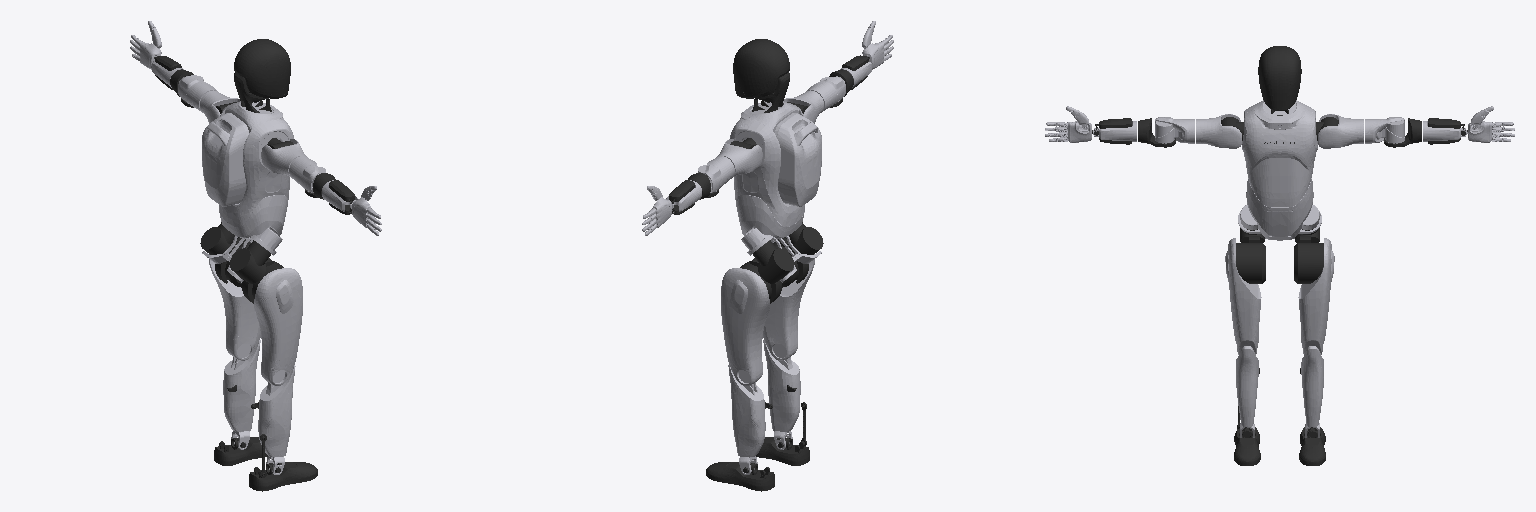
--- What the picture shows (computed from the rendered views, not written in the file) ---
The picture shows the robot from 3 angles, left to right: view 1: azimuth 30°, elevation 25°; view 2: azimuth 150°, elevation 25°; view 3: azimuth 270°, elevation 25°; orthographic projection.
Model a2_t2d0_ultra with 50 links and 49 joints (20 revolute, 29 fixed), rooted at base_link, posed all joints at 0.
Links seen in each view (by area): view 1: base_link, right_hip_pitch, head_link02, right_tarsus, left_tarsus, left_hip_pitch, right_toe_roll, right_hip_roll, left_toe_roll, right_arm_link02, right_hand, left_hand (+5 smaller); view 2: base_link, left_hip_pitch, head_link02, left_tarsus, right_tarsus, right_hip_pitch, left_toe_roll, left_hip_roll, right_toe_roll, left_arm_link02, left_hand, left_arm_link03 (+5 smaller); view 3: base_link, head_link02, left_hip_pitch, right_hip_pitch, right_tarsus, left_tarsus, right_hip_yaw, left_hip_yaw, left_arm_link02, right_arm_link02, left_hand, right_hand (+6 smaller).
Boxes of the visible links, left/top/right/bottom form: base_link: left=202, top=101, right=293, bottom=282; right_hip_pitch: left=254, top=268, right=302, bottom=385; head_link02: left=234, top=39, right=290, bottom=98; right_tarsus: left=258, top=365, right=295, bottom=474; left_tarsus: left=223, top=340, right=260, bottom=449; left_hip_pitch: left=209, top=238, right=260, bottom=360; right_toe_roll: left=249, top=462, right=317, bottom=491; right_hip_roll: left=230, top=240, right=270, bottom=283; left_toe_roll: left=214, top=437, right=267, bottom=465; right_arm_link02: left=261, top=139, right=306, bottom=176; right_hand: left=350, top=186, right=381, bottom=235; left_hand: left=130, top=21, right=161, bottom=69; base_link: left=730, top=101, right=821, bottom=282; left_hip_pitch: left=721, top=268, right=769, bottom=385; head_link02: left=733, top=39, right=789, bottom=98; left_tarsus: left=728, top=365, right=765, bottom=474; right_tarsus: left=763, top=340, right=800, bottom=449; right_hip_pitch: left=763, top=238, right=814, bottom=360; left_toe_roll: left=706, top=462, right=774, bottom=491; left_hip_roll: left=753, top=240, right=793, bottom=283; right_toe_roll: left=756, top=437, right=809, bottom=465; left_arm_link02: left=717, top=139, right=762, bottom=176; left_hand: left=642, top=186, right=673, bottom=235; left_arm_link03: left=698, top=156, right=734, bottom=192; base_link: left=1238, top=100, right=1321, bottom=240; head_link02: left=1258, top=46, right=1301, bottom=110; left_hip_pitch: left=1298, top=238, right=1334, bottom=354; right_hip_pitch: left=1225, top=238, right=1261, bottom=354; right_tarsus: left=1236, top=346, right=1258, bottom=437; left_tarsus: left=1301, top=346, right=1323, bottom=437; right_hip_yaw: left=1236, top=236, right=1265, bottom=283; left_hip_yaw: left=1294, top=236, right=1323, bottom=283; left_arm_link02: left=1318, top=114, right=1363, bottom=148; right_arm_link02: left=1196, top=114, right=1241, bottom=148; left_hand: left=1465, top=106, right=1514, bottom=142; right_hand: left=1045, top=106, right=1096, bottom=142.
Bounding box of the posed robot: 0.3663 × 1.8 × 1.69 m (x, y, z).
Meshes: 48 distinct files referenced, 43 mesh visuals loaded (43 binary STL); not drawn: 5 (reference not matched to a file when rendering).

robot.urdf — a2_t2d0_ultra:
<?xml version="1.0" encoding="utf-8"?>
<!-- This URDF was automatically created by SolidWorks to URDF Exporter! Originally created by Stephen Brawner ([email redacted])
     Commit Version: 1.6.0-4-g7f85cfe  Build Version: 1.6.7995.38578
     For more information, please see http://wiki.ros.org/sw_urdf_exporter -->
     
<robot name="a2_t2d0_ultra">
  <link name="base_link">
    <inertial>
      <origin xyz="-0.07088950 -0.00016512 0.16138088" rpy="0 0 0" />
      <mass value="18.89945962" />
      <inertia ixx="0.59376016" iyy="0.55503329" izz="0.18455985" ixy="0.00015891" ixz="0.00353796" iyz="-0.00043902"/>
    </inertial>
    <visual>
      <origin xyz="0 0 0" rpy="0 0 0" />
      <geometry>  
        <mesh filename="../mesh/body.stl"/>
      </geometry>
      <material name="metallic silver">
        <color rgba="0.752941176 0.752941176 0.784313725 1" />
      </material>
    </visual>
    <collision>
      <origin xyz="0 0 0" rpy="0 0 0" />
      <geometry>
        <mesh filename="../convex/body_hull.stl"/>
      </geometry>
    </collision>
  </link>

  <!-- left leg -->
  <link name="left_hip_roll">
    <inertial>
      <origin xyz="0.00011252 0.02130615 -0.07465143" rpy="0 0 0" />
      <mass value="2.39059365" />
      <inertia ixx="0.00381223" iyy="0.00368166" izz="0.00334373" ixy="-0.00000253" ixz="0.00000433" iyz="0.00019809"/>
    </inertial>
    <visual>
      <origin xyz="0 0 0" rpy="0 0 0" />
      <geometry>
        <mesh filename="../mesh/left_hip_roll.stl" />
      </geometry>
      <material name="metallic black">
        <color rgba="0.235294118 0.235294118 0.235294118 1" />
      </material>
    </visual>
    <collision>
      <origin xyz="0 0 0" rpy="0 0 0" />
      <geometry>
        <mesh filename="../convex/left_hip_roll_hull.stl" />
      </geometry>
    </collision>
  </link>
  <joint name="idx01_left_hip_roll" type="revolute">
    <origin xyz="-0.0808 0.105 -0.0652" rpy="0.7854 0 1.5708" />
    <parent link="base_link" />
    <child link="left_hip_roll" />
    <axis xyz="0 0 1" />
    <limit lower="-0.698" upper="0.698" effort="120" velocity="12" />
  </joint>

  <link name="left_hip_yaw">
    <inertial>
      <origin xyz="-0.00012288 0.01576460 0.10828703" rpy="0 0 0" />
      <mass value="3.79911511" />
      <inertia ixx="0.00941292" iyy="0.01442888" izz="0.00698406" ixy="0.00000766" ixz="0.00000238" iyz="-0.00055185"/>
    </inertial>
    <visual>
      <origin xyz="0 0 0" rpy="0 0 0" />
      <geometry>
        <mesh filename="../mesh/left_hip_yaw.stl"/>
      </geometry>
      <material name="metallic black">
        <color rgba="0.235294118 0.235294118 0.235294118 1" />
      </material>
    </visual>
    <collision>
      <origin xyz="0 0 0" rpy="0 0 0" />
      <geometry>
        <mesh filename="../convex/left_hip_yaw_hull.stl"/>
      </geometry>
    </collision>
  </link>
  <joint name="idx02_left_hip_yaw" type="revolute">
    <origin xyz="0 -0.017 -0.0682" rpy="1.5708 -1.5708 0" />
    <parent link="left_hip_roll" />
    <child link="left_hip_yaw" />
    <axis xyz="0 0 1" />
    <limit lower="-1.57" upper="1.57" effort="120" velocity="12" />
  </joint>

  <link name="left_hip_pitch">
    <inertial>
      <origin xyz="-0.06943423 0.00469099 0.02228242" rpy="0 0 0" />
      <mass value="5.92461880" />
      <inertia ixx="0.01406779" iyy="0.08875802" izz="0.09356940" ixy="0.00370132" ixz="-0.00808512" iyz="0.00067639"/>
    </inertial>
    <visual>
      <origin xyz="0 0 0" rpy="0 0 0" />
      <geometry>
        <mesh filename="../mesh/left_hip_pitch.stl" />
      </geometry>
      <material name="metallic silver">
        <color rgba="0.752941176 0.752941176 0.784313725 1" />
      </material>
    </visual>
    <collision>
      <origin xyz="0 0 0" rpy="0 0 0" />
      <geometry>
        <mesh filename="../convex/left_hip_pitch_hull.stl" />
      </geometry>
    </collision>
  </link>
  <joint name="idx03_left_hip_pitch" type="revolute">
    <origin xyz="0 -0.020 0.1205" rpy="1.5708 0.7854 0" />
    <parent link="left_hip_yaw" />
    <child link="left_hip_pitch" />
    <axis xyz="0 0 1" />
    <limit lower="-1.919862144" upper="0.78539815" effort="140" velocity="12" />
  </joint>

  <link name="left_tarsus">
    <inertial>
      <origin xyz="-0.17711952 0.00417209 0.00013325" rpy="0 0 0" />
      <mass value="3.02166726" />
      <inertia ixx="0.00286094" iyy="0.02537518" izz="0.02674320" ixy="-0.00112212" ixz="0.00004708" iyz="0.00001928"/>
    </inertial>
    <visual>
      <origin xyz="0 0 0" rpy="0 0 0" />
      <geometry>
        <mesh filename="../mesh/left_tarsus.stl" />
      </geometry>
      <material name="metallic silver">
        <color rgba="0.752941176 0.752941176 0.784313725 1" />
      </material>
    </visual>
    <collision>
      <origin xyz="0 0 0" rpy="0 0 0" />
      <geometry>
        <mesh filename="../convex/left_tarsus_hull.stl" />
      </geometry>
    </collision>
  </link>
  <joint name="idx04_left_tarsus" type="revolute">
    <origin xyz="-0.34 0 0" rpy="0 0 0" />
    <parent link="left_hip_pitch" />
    <child link="left_tarsus" />
    <axis xyz="0 0 1" />
    <limit lower="-0.087266461" upper="2.443460911" effort="140" velocity="12" />
  </joint>

  <link name="left_toe_pitch">
    <inertial>
      <origin xyz="0 0 0" rpy="0 0 0" />
      <mass value="0.08772028" />
      <inertia ixx="0.00001572" iyy="0.00001128" izz="0.00001148" ixy="0.0" ixz="0.0" iyz="0.0"/>
    </inertial>
    <visual>
      <origin xyz="0 0 0" rpy="0 0 0" />
      <geometry>
        <mesh filename="../mesh/left_toe_pitch.stl"/>
      </geometry>
      <material name="metallic black">
        <color rgba="0.235294118 0.235294118 0.235294118 1" />
      </material>
    </visual>
    <collision>
      <origin xyz="0 0 0" rpy="0 0 0" />
      <geometry>
        <mesh filename="../convex/left_toe_pitch_hull.stl"/>
      </geometry>
    </collision>
  </link>
  <joint name="idx05_left_toe_pitch" type="revolute">
    <origin xyz="-0.377 0 0" rpy="0 0 0" />
    <parent link="left_tarsus" />
    <child link="left_toe_pitch" />
    <axis xyz="0 0 1" />
    <limit lower="-1.047197533" upper="0.523598767" effort="50" velocity="12" />
  </joint>

  <link name="left_toe_roll">
    <inertial>
      <origin xyz="-0.03898340 0.00002335 0.03167314" rpy="0 0 0" />
      <mass value="1.21058213" />
      <inertia ixx="0.00701152" iyy="0.00653210" izz="0.00112114" ixy="0.00000021" ixz="0.00015476" iyz="-0.00000270"/>
    </inertial>
    <visual>
      <origin xyz="0 0 0" rpy="0 0 0" />
      <geometry>
        <mesh filename="../mesh/left_toe_roll.stl" />
      </geometry>
      <material name="metallic black">
        <color rgba="0.235294118 0.235294118 0.235294118 1" />
      </material>
    </visual>
    <collision>
      <origin xyz="0 0 0" rpy="0 0 0" />
      <geometry>
        <mesh filename="../convex/left_toe_roll_hull.stl" />
      </geometry>
    </collision>
  </link>
  <joint name="idx06_left_toe_roll" type="revolute">
    <origin xyz="0 0 0" rpy="-1.5707963 0 0" />
    <parent link="left_toe_pitch" />
    <child link="left_toe_roll" />
    <axis xyz="0 0 1" />
    <limit lower="-0.488692182" upper="0.488692182" effort="50" velocity="12" />
  </joint>

  <link name="left_toe_A">
    <inertial>
      <origin xyz="0.0161339967539726 0.000256129454551002 0.00157429551114607" rpy="0 0 0" />
      <mass value="0.0959876868449394" />
      <inertia ixx="1.47306660350068E-05" ixy="7.10372384628399E-07" ixz="1.01514226468701E-05" iyy="5.94672539950203E-05" iyz="1.61153684004436E-07" izz="6.68731361080011E-05" />
    </inertial>
    <visual>
      <origin xyz="0 0 0" rpy="0 0 0" />
      <geometry>
        <mesh filename="../mesh/left_toe_A.stl" />
      </geometry>
      <material name="metallic black">
        <color rgba="0.235294118 0.235294118 0.235294118 1" />
      </material>
    </visual>
    <collision>
      <origin xyz="0 0 0" rpy="0 0 0" />
      <geometry>
        <mesh filename="../convex/left_toe_A_hull.stl" />
      </geometry>
      <material name="metallic black">
        <color rgba="0.235294118 0.235294118 0.235294118 1" />
      </material>
    </collision>
  </link>
  <joint name="idx05_01_left_toe_motorA" type="fixed">
    <origin xyz="-0.138 0 -0.0315" rpy="0 0 -1.5708" />
    <parent link="left_tarsus" />
    <child link="left_toe_A" />
    <axis xyz="0 0 1" />
    <limit lower="-1.5708" upper="1.5708" effort="0" velocity="0" />
  </joint>


  <link name="left_toe_A_rod">
    <inertial>
      <origin xyz="-0.11950903764711 -4.54312300279813E-09 2.0722082788957E-05" rpy="0 0 0" />
      <mass value="0.133194826485547" />
      <inertia ixx="4.13825335822083E-06" ixy="6.85930711305851E-12" ixz="2.45335802357092E-09" iyy="0.000625059882342822" iyz="2.33641130593936E-12" izz="0.000627531716420437" />
    </inertial>
    <visual>
      <origin xyz="0 0 0" rpy="0 0 0" />
      <geometry>
        <mesh filename="../mesh/left_toe_A_rod.stl" />
      </geometry>
      <material name="metallic black">
        <color rgba="0.235294118 0.235294118 0.235294118 1" />
      </material>
    </visual>
    <collision>
      <origin xyz="0 0 0" rpy="0 0 0" />
      <geometry>
        <mesh filename="../convex/left_toe_A_rod_hull.stl" />
      </geometry>
    </collision>
  </link>
  <joint name="idx05_01_left_toe_motorA_ball" type="fixed">
    <origin xyz="0.062992 0.001 0" rpy="-3.1416 0 1.5708" />
    <parent link="left_toe_A" />
    <child link="left_toe_A_rod" />
    <axis xyz="0 0 0" />
  </joint>

  <link name="left_toe_B">
    <inertial>
      <origin xyz="0.0161339965985728 0.000256125750057401 -0.00157429547986562" rpy="0 0 0" />
      <mass value="0.0959876865489089" />
      <inertia ixx="1.47306660936761E-05" ixy="7.10374422550964E-07" ixz="-1.0151422567557E-05" iyy="5.94672535179347E-05" iyz="-1.61154476946449E-07" izz="6.68731357299622E-05" />
    </inertial>
    <visual>
      <origin xyz="0 0 0" rpy="0 0 0" />
      <geometry>
        <mesh filename="../mesh/left_toe_B.stl" />
      </geometry>
      <material name="metallic black">
        <color rgba="0.235294118 0.235294118 0.235294118 1" />
      </material>
    </visual>
    <collision>
      <origin xyz="0 0 0" rpy="0 0 0" />
      <geometry>
        <mesh filename="../convex/left_toe_B_hull.stl" />
      </geometry>
    </collision>
  </link>
  <joint name="idx06_01_left_toe_motorB" type="fixed">
    <origin xyz="-0.232 0 0.0315" rpy="0 0 -1.5708" />
    <parent link="left_tarsus" />
    <child link="left_toe_B" />
    <axis xyz="0 0 1" />
    <limit lower="-1.5708" upper="1.5708" effort="0" velocity="0" />
  </joint>

  <link name="left_toe_B_rod">
    <inertial>
      <origin xyz="-0.0725000006179941 2.39833153337088E-11 2.75483156604583E-05" rpy="0 0 0" />
      <mass value="0.0989853087337602" />
      <inertia ixx="3.41390504492216E-06" ixy="-7.00234342247419E-12" ixz="-1.67152635087163E-13" iyy="0.000168898913472365" iyz="-6.91334604265453E-15" izz="0.000171065639810982" />
    </inertial>
    <visual>
      <origin xyz="0 0 0" rpy="0 0 0" />
      <geometry>
        <mesh filename="../mesh/left_toe_B_rod.stl" />
      </geometry>
      <material name="metallic black">
        <color rgba="0.235294118 0.235294118 0.235294118 1" />
      </material>
    </visual>
    <collision>
      <origin xyz="0 0 0" rpy="0 0 0" />
      <geometry>
        <mesh filename="../convex/left_toe_B_rod_hull.stl" />
      </geometry>
    </collision>
  </link>
  <joint name="idx06_01_left_toe_motorB_ball" type="fixed">
    <origin xyz="0.063 0.001 0" rpy="-3.14159265358666 0 1.57074160362305" />
    <parent link="left_toe_B" />
    <child link="left_toe_B_rod" />
    <axis xyz="0 0 0" />
  </joint>

  <!-- right leg -->
  <link name="right_hip_roll">
    <inertial>
      <origin xyz="-0.00011252 0.02130615 -0.07465143" rpy="0 0 0" />
      <mass value="2.39059365" />
      <inertia ixx="0.00381223" iyy="0.00368166" izz="0.00334373" ixy="0.00000253" ixz="-0.00000433" iyz="0.00019809"/>
    </inertial>
    <visual>
      <origin xyz="0 0 0" rpy="0 0 0" />
      <geometry>
        <mesh filename="../mesh/right_hip_roll.stl"/>
      </geometry>
      <material name="metallic black">
        <color rgba="0.235294118 0.235294118 0.235294118 1" />
      </material>
    </visual>
    <collision>
      <origin xyz="0 0 0" rpy="0 0 0" />
      <geometry>
        <mesh filename="../convex/right_hip_roll_hull.stl"/>
      </geometry>
    </collision>
  </link>
  <joint name="idx07_right_hip_roll" type="revolute">
    <origin xyz="-0.0808 -0.105 -0.0652" rpy="0.7854 0 1.5708" />
    <parent link="base_link" />
    <child link="right_hip_roll" />
    <axis xyz="0 0 1" />
    <limit lower="-0.698" upper="0.698" effort="120" velocity="12" />
  </joint>

  <link name="right_hip_yaw">
    <inertial>
      <origin xyz="-0.00012288 -0.01576460 0.10828703" rpy="0 0 0" />
      <mass value="3.79911511" />
      <inertia ixx="0.00941292" iyy="0.01442888" izz="0.00698406" ixy="-0.00000766" ixz="0.00000238" iyz="0.00055185"/>
    </inertial>
    <visual>
      <origin xyz="0 0 0" rpy="0 0 0" />
      <geometry>
        <mesh filename="../mesh/right_hip_yaw.stl" />
      </geometry>
      <material name="metallic black">
        <color rgba="0.235294118 0.235294118 0.235294118 1" />
      </material>
    </visual>
    <collision>
      <origin xyz="0 0 0" rpy="0 0 0" />
      <geometry>
        <mesh filename="../convex/right_hip_yaw_hull.stl"/>
      </geometry>
    </collision>
  </link>
  <joint name="idx08_right_hip_yaw" type="revolute">
    <origin xyz="0 -0.017 -0.0682" rpy="1.5708 -1.5708 0" />
    <parent link="right_hip_roll" />
    <child link="right_hip_yaw" />
    <axis xyz="0 0 1" />
    <limit lower="-1.57" upper="1.57" effort="120" velocity="12" />
  </joint>

  <link name="right_hip_pitch">
    <inertial>
      <origin xyz="-0.06943423 0.00469099 -0.02228242" rpy="0 0 0" />
      <mass value="5.92461880" />
      <inertia ixx="0.01406779" iyy="0.08875802" izz="0.09356940" ixy="0.00370132" ixz="0.00808512" iyz="-0.00067639"/>
    </inertial>
    <visual>
      <origin xyz="0 0 0" rpy="0 0 0" />
      <geometry>
        <mesh filename="../mesh/right_hip_pitch.stl" />
      </geometry>
      <material name="metallic silver">
        <color rgba="0.752941176 0.752941176 0.784313725 1" />
      </material>
    </visual>
    <collision>
      <origin xyz="0 0 0" rpy="0 0 0" />
      <geometry>
        <mesh filename="../convex/right_hip_pitch_hull.stl"/>
      </geometry>
    </collision>
  </link>
  <joint name="idx09_right_hip_pitch" type="revolute">
    <origin xyz="0 0.020 0.1205" rpy="1.5708 0.7854 0" />
    <parent link="right_hip_yaw" />
    <child link="right_hip_pitch" />
    <axis xyz="0 0 1" />
    <limit lower="-1.919862144" upper="0.78539815" effort="140" velocity="12" />
  </joint>

  <link name="right_tarsus">
    <inertial>
      <origin xyz="-0.17711952 0.00417209 -0.00013325" rpy="0 0 0" />
      <mass value="3.02166726" />
      <inertia ixx="0.00286094" iyy="0.02537518" izz="0.02674320" ixy="-0.00112212" ixz="-0.00004708" iyz="-0.00001928"/>
    </inertial>
    <visual>
      <origin xyz="0 0 0" rpy="0 0 0" />
      <geometry>
        <mesh filename="../mesh/right_tarsus.stl" />
      </geometry>
      <material name="metallic silver">
        <color rgba="0.752941176 0.752941176 0.784313725 1" />
      </material>
    </visual>
    <collision>
      <origin xyz="0 0 0" rpy="0 0 0" />
      <geometry>
        <mesh filename="../convex/right_tarsus_hull.stl"/>
      </geometry>
    </collision>
  </link>
  <joint name="idx10_right_tarsus" type="revolute">
    <origin xyz="-0.34 0 0" rpy="0 0 0" />
    <parent link="right_hip_pitch" />
    <child link="right_tarsus" />
    <axis xyz="0 0 1" />
    <limit lower="-0.087266461" upper="2.443460911" effort="140" velocity="12" />
  </joint>

  <link name="right_toe_pitch">
    <inertial>
      <origin xyz="0 0 0" rpy="0 0 0" />
      <mass value="0.08772028" />
      <inertia ixx="0.00001572" iyy="0.00001128" izz="0.00001148" ixy="0.0" ixz="0.0" iyz="0.0"/>
    </inertial>
    <visual>
      <origin xyz="0 0 0" rpy="0 0 0" />
      <geometry>
        <mesh filename="../mesh/right_toe_pitch.stl"/>
      </geometry>
      <material name="metallic black">
        <color rgba="0.235294118 0.235294118 0.235294118 1" />
      </material>
    </visual>
    <collision>
      <origin xyz="0 0 0" rpy="0 0 0" />
      <geometry>
        <mesh filename="../convex/right_toe_pitch_hull.stl"/>
      </geometry>
    </collision>
  </link>
  <joint name="idx11_right_toe_pitch" type="revolute">
    <origin xyz="-0.377 0 0" rpy="0 0 0" />
    <parent link="right_tarsus" />
    <child link="right_toe_pitch" />
    <axis xyz="0 0 1" />
    <limit lower="-1.047197533" upper="0.523598767" effort="50" velocity="12" />
  </joint>

  <link name="right_toe_roll">
    <inertial>
      <origin xyz="-0.03898340 -0.00002335 0.03167314" rpy="0 0 0" />
      <mass value="1.21058213" />
      <inertia ixx="0.00701152" iyy="0.00653210" izz="0.00112114" ixy="-0.00000021" ixz="0.00015476" iyz="0.00000270"/>
    </inertial>
    <visual>
      <origin xyz="0 0 0" rpy="0 0 0" />
      <geometry>
        <mesh filename="../mesh/right_toe_roll.stl"/>
      </geometry>
      <material name="metallic black">
        <color rgba="0.235294118 0.235294118 0.235294118 1" />
      </material>
    </visual>
    <collision>
      <origin xyz="0 0 0" rpy="0 0 0" />
      <geometry>
        <mesh filename="../convex/right_toe_roll_hull.stl"/>
      </geometry>
    </collision>
  </link>
  <joint name="idx12_right_toe_roll" type="revolute">
    <origin xyz="0 0 0" rpy="-1.5707963 0 0" />
    <parent link="right_toe_pitch" />
    <child link="right_toe_roll" />
    <axis xyz="0 0 1" />
    <limit lower="-0.488692182" upper="0.488692182" effort="50" velocity="12" />
  </joint>
  
  <link name="right_toe_A">
    <inertial>
      <origin xyz="0.0161564618609389 0.00025642819293159 -0.001574295479989" rpy="0 0 0" />
      <mass value="0.0959876865493352" />
      <inertia ixx="1.47306517352712E-05" ixy="7.09922163047177E-07" ixz="-1.01514241960403E-05" iyy="5.94672678768343E-05" iyz="-1.61051852281769E-07" izz="6.68731357306057E-05" />
    </inertial>
    <visual>
      <origin xyz="0 0 0" rpy="0 0 0" />
      <geometry>
        <mesh filename="../mesh/right_toe_A.stl"/>
      </geometry>
      <material name="metallic black">
        <color rgba="0.235294118 0.235294118 0.235294118 1" />
      </material>
    </visual>
    <collision>
      <origin xyz="0 0 0" rpy="0 0 0" />
      <geometry>
        <mesh filename="../convex/right_toe_A_hull.stl"/>
      </geometry>
    </collision>
  </link>
  <joint name="idx11_01_right_toe_motorA" type="fixed">
    <origin xyz="-0.138 0 0.0315" rpy="0 0 -1.5708" />
    <parent link="right_tarsus" />
    <child link="right_toe_A" />
    <axis xyz="0 0 1" />
    <limit lower="0" upper="0" effort="0" velocity="0" />
  </joint>

  <link name="right_toe_A_rod">
    <inertial>
      <origin xyz="-0.119506775010566 2.76775022988937E-05 2.07236899269908E-05" rpy="0 0 0" />
      <mass value="0.133194826485545" />
      <inertia ixx="4.13825457277786E-06" ixy="2.68995206710072E-08" ixz="2.45335787860636E-09" iyy="0.00062505988112825" iyz="2.44266827827242E-12" izz="0.000627531716420421" />
    </inertial>
    <visual>
      <origin xyz="0 0 0" rpy="0 0 0" />
      <geometry>
        <mesh filename="../mesh/right_toe_A_rod.stl" />
      </geometry>
      <material name="metallic black">
        <color rgba="0.235294118 0.235294118 0.235294118 1" />
      </material>
    </visual>
    <collision>
      <origin xyz="0 0 0" rpy="0 0 0" />
      <geometry>
        <mesh filename="../convex/right_toe_A_rod_hull.stl"/>
      </geometry>
    </collision>
  </link>
  <joint name="idx11_01_right_toe_motorA_ball " type="fixed">
    <origin xyz="0.062992 0.0010021 0" rpy="3.1416 0 1.5708" />
    <parent link="right_toe_A" />
    <child link="right_toe_A_rod" />
    <axis xyz="0 0 0" />
  </joint>

  <link name="right_toe_B">
    <inertial>
      <origin xyz="0.0161605408863716 0.000255895525077321 0.00157429551102603" rpy="0 0 0" />
      <mass value="0.0959876868444429" />
      <inertia ixx="1.47306045969354E-05" ixy="7.08435168511415E-07" ixz="1.01514296159037E-05" iyy="5.94673154325773E-05" iyz="1.60714100188362E-07" izz="6.68731361073396E-05" />
    </inertial>
    <visual>
      <origin xyz="0 0 0" rpy="0 0 0" />
      <geometry>
        <mesh filename="../mesh/right_toe_B.stl"/>
      </geometry>
      <material name="metallic black">
        <color rgba="0.235294118 0.235294118 0.235294118 1" />
      </material>
    </visual>
    <collision>
      <origin xyz="0 0 0" rpy="0 0 0" />
      <geometry>
        <mesh filename="../convex/right_toe_B_hull.stl"/>
      </geometry>
    </collision>
  </link>
  <joint name="idx12_01_right_toe_motorB" type="fixed">
    <origin xyz="-0.232 0 -0.0315" rpy="0 0 -1.5708" />
    <parent link="right_tarsus" />
    <child link="right_toe_B" />
    <axis xyz="0 0 1" />
    <limit lower="0" upper="0" effort="0" velocity="0" />
  </joint>
  <link name="right_toe_B_rod">
    <inertial>
      <origin xyz="-0.0724977388604912 2.97174338039705E-05 2.75478483252878E-05" rpy="0 0 0" />
      <mass value="0.0989853087337611" />
      <inertia ixx="3.41390533484477E-06" ixy="7.16306173866274E-09" ixz="-1.67153379781756E-13" iyy="0.000168898913182443" iyz="-6.92078088288279E-15" izz="0.000171065639810983" />
    </inertial>
    <visual>
      <origin xyz="0 0 0" rpy="0 0 0" />
      <geometry>
        <mesh filename="../mesh/right_toe_B_rod.stl"/>
      </geometry>
      <material name="metallic black">
        <color rgba="0.235294118 0.235294118 0.235294118 1" />
      </material>
    </visual>
    <collision>
      <origin xyz="0 0 0" rpy="0 0 0" />
      <geometry>
        <mesh filename="../convex/right_toe_B_rod_hull.stl"/>
      </geometry>
    </collision>
  </link>
  <joint name="idx12_01_right_toe_motorB_ball" type="fixed">
    <origin xyz="0.062992 0.001 0" rpy="3.1416 0 1.5707" />
    <parent link="right_toe_B" />
    <child link="right_toe_B_rod" />
    <axis xyz="0 0 0" />
  </joint>

  <!-- left arm -->
  <link name="left_arm_link_base"/>
  <joint name="left_arm_base_joint" type="fixed">
    <origin rpy="1.5707963  0 0" xyz="-0.03779 0 0.3421"/>
    <parent link="base_link"/>
    <child link="left_arm_link_base"/>
  </joint>

  <link name="left_arm_link01">
    <inertial>
      <origin xyz="-0.002330 0.008782 0.032870" rpy="0 0 0" />
      <mass value="0.276944" />
      <inertia ixx="0.000595" iyy="0.000381" izz="0.000542" ixy="-0.000006" ixz="-0.000002" iyz="0.000053"/>
    </inertial>
    <visual>
      <origin xyz="0 0 0" rpy="0 0 0" />
      <geometry>
        <mesh filename="../mesh/left_arm_link01.stl" />
      </geometry>
      <material name="metallic black">
        <color rgba="0.235294118 0.235294118 0.235294118 1" />
      </material>
    </visual>
    <collision>
      <origin xyz="0 0 0" rpy="0 0 0" />
      <geometry>
        <mesh filename="../convex/left_arm_link01_hull.stl"/>
      </geometry>
    </collision>
  </link>
  <joint name="idx13_left_arm_joint1" type="revolute">
    <origin xyz="-0.0 0.0 -0.191 " rpy="0 0 -1.5707963" />
    <parent link="left_arm_link_base" />
    <child link="left_arm_link01" />
    <axis xyz="0 0 1" />
    <limit lower="-2.967" upper="2.967" effort="0" velocity="0" />
  </joint>


  <link name="left_arm_link02">
    <inertial>
      <origin xyz="-0.000451 -0.051682 -0.001084" rpy="0 0 0" />
      <mass value="2.852114" />
      <inertia ixx="0.011984" iyy="0.002880" izz="0.011709" ixy="0.000039" ixz="0.000003" iyz="0.000140"/>
    </inertial>
    <visual>
      <origin xyz="0 0 0" rpy="0 0 0" />
      <geometry>
        <mesh filename="../mesh/left_arm_link02.stl" />
      </geometry>
      <material name="metallic silver">
        <color rgba="0.752941176 0.752941176 0.784313725 1" />
      </material>
    </visual>
    <collision>
      <origin xyz="0 0 0" rpy="0 0 0" />
      <geometry>
        <mesh filename="../convex/left_arm_link02_hull.stl"/>
      </geometry>
    </collision>
  </link>
  <joint name="idx14_left_arm_joint2" type="revolute">
    <origin xyz="0 0 -0.0" rpy="1.5707963 0 0"/>
    <parent link="left_arm_link01" />
    <child link="left_arm_link02" />
    <axis xyz="0 0 1" />
    <limit lower="-0.523598767" upper="1.658062761" effort="0" velocity="0" />
  </joint>

  <link name="left_arm_link03">
    <inertial>
      <origin xyz="-0.000673 0.001065 0.079222" rpy="0 0 0" />
      <mass value="1.310295" />
      <inertia ixx="0.002030" iyy="0.002186" izz="0.001189" ixy="-0.000008" ixz="0.000005" iyz="0.000018"/>
    </inertial>
    <visual>
      <origin xyz="0 0 0" rpy="0 0 0" />
      <geometry>
        <mesh filename="../mesh/left_arm_link03.stl" />
      </geometry>
      <material name="metallic silver">
        <color rgba="0.752941176 0.752941176 0.784313725 1" />
      </material>
    </visual>
    <collision>
      <origin xyz="0 0 0" rpy="0 0 0" />
      <geometry>
        <mesh filename="../convex/left_arm_link03_hull.stl"/>
      </geometry>
    </collision>
  </link>
  <joint name="idx15_left_arm_joint3" type="revolute">
    <origin  rpy="1.5707963 0 0" xyz="0 -0.154 0" />
    <parent link="left_arm_link02" />
    <child link="left_arm_link03" />
    <axis xyz="0 0 1" />
    <limit lower="-2.967" upper="2.967" effort="0" velocity="0" />
  </joint>


  <link name="left_arm_link04">
    <inertial>
      <origin xyz="0.000273 -0.066853 -0.007408" rpy="0 0 0" />
      <mass value="0.677343" />
     <inertia ixx="0.000893" iyy="0.000508" izz="0.000767" ixy="-0.000001" ixz="-0.000002" iyz="0.000238"/>
    </inertial>
    <visual>
      <origin xyz="0 0 0" rpy="0 0 0" />
      <geometry>
        <mesh filename="../mesh/left_arm_link04.stl" />
      </geometry>
      <material name="metallic black">
        <color rgba="0.235294118 0.235294118 0.235294118 1" />
      </material>
    </visual>
    <collision>
      <origin xyz="0 0 0" rpy="0 0 0" />
      <geometry>
        <mesh filename="../convex/left_arm_link04_hull.stl"/>
      </geometry>
    </collision>
  </link>
  <joint name="idx16_left_arm_joint4" type="revolute">
    <origin xyz="0 0 0.093" rpy="-1.5707963  0  1.5707963" />
    <parent link="left_arm_link03" />
    <child link="left_arm_link04" />
    <axis xyz="0 0 1" />
    <limit lower="-2.094395067" upper="0" effort="0" velocity="0" />
  </joint>

  <link name = "left_arm_link05">
    <inertial>
      <origin xyz="-0.001962 -0.000002 0.071786" rpy="0 0 0" />
      <mass value="0.260886" />
      <inertia ixx="0.000638" iyy="0.000618" izz="0.000229" ixy="0.000000" ixz="0.000015" iyz="0.000000"/>
    </inertial>
    <visual name = "">
      <origin rpy = "0.0 0.0 0.0" xyz = "0.0 0.0 0.0" />
      <geometry>
        <mesh filename="../mesh/left_arm_link05.stl" />
      </geometry>
      <material name="metallic silver">
        <color rgba="0.752941176 0.752941176 0.784313725 1" />
      </material>
    </visual>
    <collision>
      <origin xyz="0 0 0" rpy="0 0 0" />
      <geometry>
        <mesh filename="../convex/left_arm_link05_hull.stl"/>
      </geometry>
    </collision>
  </link>
  <joint name = "idx17_left_arm_joint5" type = "fixed">
    <origin xyz = "0  -0.103 0.0" rpy = "1.5707963 0 0"  />
    <parent link = "left_arm_link04" />
    <child link = "left_arm_link05" />
    <axis xyz = "0 0 1" />
    <limit lower = "-2.87979" upper = "2.87979" velocity = "0.0" effort = "0"/>
  </joint>


  <link name = "left_arm_link06">
    <inertial>
      <origin xyz="0.00018011 -0.00021701 0.00000000" rpy="0 0 0" />
      <mass value="0.02504627" />
      <inertia ixx="0.00000197" iyy="0.00000173" izz="0.00000071" ixy="0.00000000" ixz="0.00000000" iyz="0.00000000"/>
    </inertial>
    <visual name = "">
      <origin rpy = "0.0 0.0 0.0" xyz = "0.0 0.0 0.0" />
      <geometry>
        <mesh filename="../mesh/left_arm_link06.stl" />
      </geometry>
      <material name="metallic black">
        <color rgba="0.235294118 0.235294118 0.235294118 1" />
      </material>
    </visual>
    <collision>
      <origin xyz="0 0 0" rpy="0 0 0" />
      <geometry>
        <mesh filename="../convex/left_arm_link06_hull.stl"/>
      </geometry>
    </collision>
  </link>
   <joint name = "idx18_left_arm_joint6" type = "fixed">
    <origin xyz="-0.01 0 0.1595" rpy="-1.5707963 1.5707963 0" />
    <parent link = "left_arm_link05" />
    <child link = "left_arm_link06" />
    <axis xyz = "0 0 1" />
    <limit lower = "-0.785398" upper = "0.785398" velocity = "0.0" effort = "0" />
  </joint>

  <link name = "left_arm_link07">
    <inertial>
      <origin xyz="-0.01211757 -0.00009712 0.00886324" rpy="0 0 0" />
      <mass value="0.05050219" />
      <inertia ixx="0.00000828" iyy="0.00001140" izz="0.00001294" ixy="0.00000006" ixz="-0.00000179" iyz="0.00000004"/>
    </inertial>
    <visual name = "">
      <origin rpy = "0.0 0.0 0.0" xyz = "0.0 0.0 0.0" />
      <geometry>
        <mesh filename="../mesh/left_arm_link07.stl" />
      </geometry>
      <material name="metallic black">
        <color rgba="0.235294118 0.235294118 0.235294118 1" />
      </material>
    </visual>
    <collision>
      <origin xyz="0 0 0" rpy="0 0 0" />
      <geometry>
        <mesh filename="../convex/left_arm_link07_hull.stl"/>
      </geometry>
    </collision>
  </link>
  <joint name = "idx19_left_arm_joint7" type = "fixed">
    <origin xyz="0 0 0" rpy="1.5707963 0 0" />
    <parent link = "left_arm_link06" />
    <child link = "left_arm_link07" />
    <axis xyz = "0 0 1" />
    <limit lower="-0.5236" upper="0.5236" effort="0" velocity="0" />
  </joint>

  <joint name = "left_arm_joint07_fixed" type = "fixed">
    <origin rpy = "1.5707963 0 -1.5707963" xyz = "0 0 0" />
    <parent link = "left_arm_link07" />
    <child link = "left_hand" />
  </joint>
  <link name = "left_hand">
    <visual>
      <origin xyz="0 0 0" rpy="0 0 0" />
      <geometry>
        <mesh filename="../mesh/left_hand.stl"/>
      </geometry>
      <material name="metallic silver">
        <color rgba="0.752941176 0.752941176 0.784313725 1" />
      </material>
    </visual>
    <collision>
      <origin xyz="0 0 0" rpy="0 0 0" />
      <geometry>
        <mesh filename="../convex/left_hand_hull.stl"/>
      </geometry>
      <material name="">
        <color rgba="0.8 0.4 0 1" />
      </material>
    </collision>
  </link>


  <joint name="left_wrist_motor_A_ball" type="fixed">
    <origin xyz="0.005 0.02245 0.0245" rpy="0 -3.126778944 0" />
    <parent link="left_arm_link05" />
    <child link="left_wrist_motor_A" />
  </joint>
  <link name="left_wrist_motor_A">
    <visual>
      <origin xyz="0 0 0" rpy="0 0 0" />
      <geometry>
        <mesh filename="../mesh/left_wrist_motor_A.stl" />
      </geometry>
      <material name="metallic black">
        <color rgba="0.235294118 0.235294118 0.235294118 1" />
      </material>
    </visual>
    <collision>
      <origin xyz="0 0 0" rpy="0 0 0" />
      <geometry>
        <mesh filename="../convex/left_wrist_motor_A_hull.stl"/>
      </geometry>
    </collision>
  </link>

  <joint name="left_wrist_rod_A_joint" type="fixed">
    <origin xyz="0 0 -0.135015" rpy="0 3.1415926535 0" />
    <parent link="left_wrist_motor_A" />
    <child link="left_wrist_rod_A" />
    <axis xyz="0 0 1" />
    <limit lower="-0.01199" upper="0.01204" effort="0" velocity="0" />
  </joint>
  <link name="left_wrist_rod_A">
    <visual>
      <origin xyz="0 0 0" rpy="0 0 0" />
      <geometry>
        <mesh filename="../mesh/left_wrist_rod_A.stl" />
      </geometry>
      <material name="metallic black">
        <color rgba="0.235294118 0.235294118 0.235294118 1" />
      </material>
    </visual>
    <collision>
      <origin xyz="0 0 0" rpy="0 0 0" />
      <geometry>
        <mesh filename="../convex/left_wrist_rod_A_hull.stl"/>
      </geometry>
    </collision>
  </link>

  <joint name="left_wrist_motor_B_ball" type="fixed">
    <origin xyz="0.005 -0.02245 0.0245" rpy="0 -3.126778944 0" />
    <parent link="left_arm_link05" />
    <child link="left_wrist_motor_B" />
  </joint>
  <link name="left_wrist_motor_B">
    <visual>
      <origin xyz="0 0 0" rpy="0 0 0" />
      <geometry>
        <mesh filename="../mesh/left_wrist_motor_B.stl" />
      </geometry>
      <material name="metallic black">
        <color rgba="0.235294118 0.235294118 0.235294118 1" />
      </material>
    </visual>
    <collision>
      <origin xyz="0 0 0" rpy="0 0 0" />
      <geometry>
        <mesh filename="../convex/left_wrist_motor_B_hull.stl"/>
      </geometry>
    </collision>
  </link>

  <joint name="left_wrist_rod_B_joint" type="fixed">
    <origin xyz="0 0 -0.135015" rpy="0 3.1415926535 0" />
    <parent link="left_wrist_motor_B" />
    <child link="left_wrist_rod_B" />
    <axis xyz="0 0 1" />
    <limit lower="-0.01199" upper="0.01204" effort="0" velocity="0" />
  </joint>
  <link name="left_wrist_rod_B">
    <visual>
      <origin xyz="0 0 0" rpy="0 0 0" />
      <geometry>
        <mesh filename="../mesh/left_wrist_rod_B.stl" />
      </geometry>
      <material name="metallic black">
        <color rgba="0.235294118 0.235294118 0.235294118 1" />
      </material>
    </visual>
    <collision>
      <origin xyz="0 0 0" rpy="0 0 0" />
      <geometry>
        <mesh filename="../convex/left_wrist_rod_B_hull.stl"/>
      </geometry>
    </collision>
  </link>

  <!-- right arm -->
  <link name="right_arm_link_base"/>
  <joint name="right_arm_base_joint" type="fixed">
    <origin rpy="1.5707963  0 0" xyz="-0.03779 0 0.3421"/>
    <parent link="base_link"/>
    <child link="right_arm_link_base"/>
  </joint>

  <link name="right_arm_link01">
    <inertial>
      <origin xyz="-0.002330 0.008782 -0.032870" rpy="0 0 0" />
      <mass value="0.276944" />
      <inertia ixx="0.000595" iyy="0.000381" izz="0.000542" ixy="-0.000006" ixz="0.000002" iyz="-0.000053"/>
    </inertial>
    <visual>
      <origin xyz="0 0 0" rpy="0 0 0" />
      <geometry>
        <mesh filename="../mesh/right_arm_link01.stl" />
      </geometry>
      <material name="metallic black">
        <color rgba="0.235294118 0.235294118 0.235294118 1" />
      </material>
    </visual>
    <collision>
      <origin xyz="0 0 0" rpy="0 0 0" />
      <geometry>
        <mesh filename="../convex/right_arm_link01_hull.stl"/>
      </geometry>
    </collision>
  </link>
  <joint name="idx20_right_arm_joint1" type="revolute">
    <origin xyz="-0.0 0.0 0.191 " rpy="0   0  -1.5707963" />
    <parent link="right_arm_link_base" />
    <child link="right_arm_link01" />
    <axis xyz="0 0 1" />
    <limit lower="-2.967" upper="2.967" effort="0" velocity="0" />
  </joint>

  <link name="right_arm_link02">
    <inertial>
      <origin xyz="-0.000451 0.051682 -0.001084" rpy="0 0 0" />
      <mass value="2.852114" />
      <inertia ixx="0.011984" iyy="0.002880" izz="0.011709" ixy="-0.000039" ixz="0.000003" iyz="-0.000140"/>
    </inertial>
    <visual>
      <origin xyz="0 0 0" rpy="0 0 0" />
      <geometry>
        <mesh filename="../mesh/right_arm_link02.stl" />
      </geometry>
      <material name="metallic silver">
        <color rgba="0.752941176 0.752941176 0.784313725 1" />
      </material>
    </visual>
    <collision>
      <origin xyz="0 0 0" rpy="0 0 0" />
      <geometry>
        <mesh filename="../convex/right_arm_link02_hull.stl"/>
      </geometry>
    </collision>
  </link>
  <joint name="idx21_right_arm_joint2" type="revolute">
    <origin xyz="0 0 0.0" rpy="1.5707963 0 0"/>
    <parent link="right_arm_link01" />
    <child link="right_arm_link02" />
    <axis xyz="0 0 1" />
    <limit lower="-1.658062761" upper="0.523598767" effort="0" velocity="0" />
  </joint>



  <link name="right_arm_link03">
    <inertial>
      <origin xyz="-0.000673 0.001065 -0.079222" rpy="0 0 0" />
      <mass value="1.310295" />
      <inertia ixx="0.002030" iyy="0.002186" izz="0.001189" ixy="-0.000008" ixz="-0.000005" iyz="-0.000018"/>
    </inertial>
    <visual>
      <origin xyz="0 0 0" rpy="0 0 0" />
      <geometry>
        <mesh filename="../mesh/right_arm_link03.stl" />
      </geometry>
      <material name="metallic silver">
        <color rgba="0.752941176 0.752941176 0.784313725 1" />
      </material>
    </visual>
    <collision>
      <origin xyz="0 0 0" rpy="0 0 0" />
      <geometry>
        <mesh filename="../convex/right_arm_link03_hull.stl"/>
      </geometry>
    </collision>
  </link>
  <joint name="idx22_right_arm_joint3" type="revolute">
    <origin xyz="0 0.154  0" rpy="1.5707963 0 0" />
    <parent link="right_arm_link02" />
    <child link="right_arm_link03" />
    <axis xyz="0 0 1" />
    <limit lower="-2.967" upper="2.967" effort="0" velocity="0" />
  </joint>


  <link name="right_arm_link04">
    <inertial>
      <origin xyz="0.000273 0.066853 -0.007408" rpy="0 0 0" />
      <mass value="0.677343" />
     <inertia ixx="0.000893" iyy="0.000508" izz="0.000767" ixy="0.000001" ixz="-0.000002" iyz="-0.000238"/>
    </inertial>
    <visual>
      <origin xyz="0 0 0" rpy="0 0 0" />
      <geometry>
        <mesh filename="../mesh/right_arm_link04.stl" />
      </geometry>
      <material name="metallic black">
        <color rgba="0.235294118 0.235294118 0.235294118 1" />
      </material>
    </visual>
    <collision>
      <origin xyz="0 0 0" rpy="0 0 0" />
      <geometry>
        <mesh filename="../convex/right_arm_link04_hull.stl"/>
      </geometry>
    </collision>
  </link>
  <joint name="idx23_right_arm_joint4" type="revolute">
    <origin xyz="0 0 -0.093" rpy="-1.5707963 0 1.5707963" />
    <parent link="right_arm_link03" />
    <child link="right_arm_link04" />
    <axis xyz="0 0 1" />
    <limit lower="0" upper="2.094395067" effort="0" velocity="0" />
  </joint>


 
  <link name = "right_arm_link05">
    <inertial>
      <origin xyz="-0.001962 -0.000002 -0.071786" rpy="0 0 0" />
      <mass value="0.260886" />
      <inertia ixx="0.000638" iyy="0.000618" izz="0.000229" ixy="0.000000" ixz="-0.000015" iyz="-0.000000"/>
    </inertial>
    <visual name = "">
      <origin rpy = "0.0 0.0 0.0" xyz = "0.0 0.0 0.0" />
      <geometry>
        <mesh filename="../mesh/right_arm_link05.stl" />
      </geometry>
      <material name="metallic silver">
        <color rgba="0.752941176 0.752941176 0.784313725 1" />
      </material>
    </visual>
    <collision>
      <origin xyz="0 0 0" rpy="0 0 0" />
      <geometry>
        <mesh filename="../convex/right_arm_link05_hull.stl"/>
      </geometry>
    </collision>
  </link>
  <joint name = "idx24_right_arm_joint5" type = "fixed">
    <origin xyz = "0  0.103 0.0" rpy = "1.5707963 0 0"  />
    <parent link = "right_arm_link04" />
    <child link = "right_arm_link05" />
    <axis xyz = "0 0 1" />
    <limit lower = "-2.87979" upper = "2.87979" velocity = "0.0" effort = "0.0"/>
  </joint>

  
  <link name = "right_arm_link06">
    <inertial>
      <origin xyz="-0.00018011 -0.00021701 0.00000000" rpy="0 0 0" />
      <mass value="0.02504627" />
      <inertia ixx="0.00000197" iyy="0.00000173" izz="0.00000071" ixy="-0.00000000" ixz="-0.00000000" iyz="0.00000000"/>
    </inertial>
    <visual name = "">
      <origin rpy = "0.0 0.0 0.0" xyz = "0.0 0.0 0.0" />
      <geometry>
        <mesh filename="../mesh/right_arm_link06.stl" />
      </geometry>
      <material name="metallic black">
        <color rgba="0.235294118 0.235294118 0.235294118 1" />
      </material>
    </visual>
    <collision>
      <origin xyz="0 0 0" rpy="0 0 0" />
      <geometry>
        <mesh filename="../convex/right_arm_link06_hull.stl"/>
      </geometry>
    </collision>
  </link>
  <joint name = "idx25_right_arm_joint6" type = "fixed">
    <origin xyz="-0.01 0 -0.1595" rpy="-1.5707963 1.5707963 0" />
    <parent link = "right_arm_link05" />
    <child link = "right_arm_link06" />
    <axis xyz = "0 0 1" />
    <limit lower = "-0.785398" upper = "0.785398" velocity = "0.0" effort = "0.0"/>
  </joint>

  
  <link name = "right_arm_link07">
    <inertial>
      <origin xyz="0.01211757 -0.00009712 0.00886324" rpy="0 0 0" />
      <mass value="0.05050219" />
      <inertia ixx="0.00000828" iyy="0.00001140" izz="0.00001294" ixy="-0.00000006" ixz="0.00000179" iyz="0.00000004"/>
    </inertial>
    <visual name = "">
      <origin rpy = "0.0 0.0 0.0" xyz = "0.0 0.0 0.0" />
      <geometry>
        <mesh filename="../mesh/right_arm_link07.stl" />
      </geometry>
      <material name="metallic black">
        <color rgba="0.235294118 0.235294118 0.235294118 1" />
      </material>
    </visual>
    <collision>
      <origin xyz="0 0 0" rpy="0 0 0" />
      <geometry>
        <mesh filename="../convex/right_arm_link07_hull.stl"/>
      </geometry>
    </collision>
  </link>
  <joint name = "idx26_right_arm_joint7" type = "fixed">
    <origin xyz="0 0 0" rpy="1.5707963 0 0" />
    <parent link="right_arm_link06" />
    <child link="right_arm_link07" />
    <axis xyz="0 0 1" />
    <limit lower="-0.5236" upper="0.5236" effort="0" velocity="0" />
  </joint>

  <joint name = "right_arm_joint07_fixed" type = "fixed">
    <origin rpy = "-1.5707963 0 -1.5707963" xyz = "0 0 0" />
    <parent link = "right_arm_link07" />
    <child link = "right_hand" />
  </joint>
  <link name = "right_hand">
    <visual>
      <origin xyz="0 0 0" rpy="0 0 0" />
      <geometry>
        <mesh filename="../mesh/right_hand.stl"/>
      </geometry>
      <material name="metallic silver">
        <color rgba="0.752941176 0.752941176 0.784313725 1" />
      </material>
    </visual>
    <collision>
      <origin xyz="0 0 0" rpy="0 0 0" />
      <geometry>
        <mesh filename="../convex/right_hand_hull.stl"/>
      </geometry>
      <material name="">
        <color rgba="0.8 0.4 0 1" />
      </material>
    </collision>
  </link>

  <joint name="right_wrist_motor_A_ball" type="fixed">
    <origin xyz="0.005 0.02245 -0.0245" rpy="0 -0.01481371 0" />
    <parent link="right_arm_link05" />
    <child link="right_wrist_motor_A" />
  </joint>
  <link name="right_wrist_motor_A">
    <visual>
      <origin xyz="0 0 0" rpy="0 0 0" />
      <geometry>
        <mesh filename="../mesh/right_wrist_motor_A.stl" />
      </geometry>
      <material name="metallic black">
        <color rgba="0.235294118 0.235294118 0.235294118 1" />
      </material>
    </visual>
    <collision>
      <origin xyz="0 0 0" rpy="0 0 0" />
      <geometry>
        <mesh filename="../convex/right_wrist_motor_A_hull.stl"/>
      </geometry>
    </collision>
  </link>

  <joint name="right_wrist_rod_A_joint" type="fixed">
    <origin xyz="0 0 -0.135015" rpy="0 3.1415926535 0" />
    <parent link="right_wrist_motor_A" />
    <child link="right_wrist_rod_A" />
    <axis xyz="0 0 1" />
    <limit lower="-0.01199" upper="0.01204" effort="0" velocity="0" />
  </joint>
  <link name="right_wrist_rod_A">
    <visual>
      <origin xyz="0 0 0" rpy="0 0 0" />
      <geometry>
        <mesh filename="../mesh/right_wrist_rod_A.stl" />
      </geometry>
      <material name="metallic black">
        <color rgba="0.235294118 0.235294118 0.235294118 1" />
      </material>
    </visual>
    <collision>
      <origin xyz="0 0 0" rpy="0 0 0" />
      <geometry>
        <mesh filename="../convex/right_wrist_rod_A_hull.stl" />
      </geometry>
    </collision>
  </link>

  <joint name="right_wrist_motor_B_ball" type="fixed">
    <origin xyz="0.005 -0.02245 -0.0245" rpy="0 -0.01481371 0" />
    <parent link="right_arm_link05" />
    <child link="right_wrist_motor_B" />
  </joint>
  <link name="right_wrist_motor_B">
    <visual>
      <origin xyz="0 0 0" rpy="0 0 0" />
      <geometry>
        <mesh filename="../mesh/right_wrist_motor_B.stl"/>
      </geometry>
      <material name="metallic black">
        <color rgba="0.235294118 0.235294118 0.235294118 1" />
      </material>
    </visual>
    <collision>
      <origin xyz="0 0 0" rpy="0 0 0" />
      <geometry>
        <mesh filename="../convex/right_wrist_motor_B_hull.stl"/>
      </geometry>
    </collision>
  </link>

  <joint name="right_wrist_rod_B_joint" type="fixed">
    <origin xyz="0 0 -0.135015" rpy="0 3.1415926535 0" />
    <parent link="right_wrist_motor_B" />
    <child link="right_wrist_rod_B" />
    <axis xyz="0 0 1" />
    <limit lower="-0.01199" upper="0.01204" effort="0" velocity="0" />
  </joint>
  <link name="right_wrist_rod_B">
    <visual>
      <origin xyz="0 0 0" rpy="0 0 0" />
      <geometry>
        <mesh filename="../mesh/right_wrist_rod_B.stl" />
      </geometry>
      <material name="metallic black">
        <color rgba="0.235294118 0.235294118 0.235294118 1" />
      </material>
    </visual>
    <collision>
      <origin xyz="0 0 0" rpy="0 0 0" />
      <geometry>
        <mesh filename="../convex/right_wrist_rod_B_hull.stl" />
      </geometry>
    </collision>
  </link>


  <link name="head_link01">
    <inertial>
      <origin xyz="-0.00154008 0.00649494 0.11627791" rpy="0 0 0" />
      <mass value="1.39889495" />
      <inertia ixx="0.00378192" iyy="0.00393150" izz="0.00152438" ixy="-0.00000282" ixz="0.00029671" iyz="-0.00021616"/>
    </inertial>
    <visual>
      <origin xyz="0 0 0" rpy="0 0 0" />
      <geometry>
        <mesh filename="../mesh/head_link01.stl" />
      </geometry>
      <material name="metallic black">
        <color rgba="0.235294118 0.235294118 0.235294118 1" />
      </material>
    </visual>
    <collision>
      <origin xyz="0 0 0" rpy="0 0 0" />
      <geometry>
        <mesh filename="../convex/head_link01_hull.stl"/>
      </geometry>
    </collision>
  </link>
  <joint name="idx27_head_joint1" type="fixed">
    <origin xyz="-0.03779 0 0.4101" rpy="0 0 0" />
    <parent link="base_link" />
    <child link="head_link01" />
    <axis xyz="0 0 1" />
    <limit lower="-2.2" upper="2.2" effort="0" velocity="0" />
  </joint>

  <link name="head_link02">
    <inertial>
      <origin xyz="0.03256533 0.02834041 0.00009476" rpy="0 0 0" />
      <mass value="0.65606942" />
      <inertia ixx="0.00350189" iyy="0.00369636" izz="0.00360950" ixy="0.00039729" ixz="-0.00000150" iyz="0.00000231"/>
    </inertial>
    <visual>
      <origin xyz="0 0 0" rpy="0 0 0" />
      <geometry>
        <mesh filename="../mesh/head_link02.stl" />
      </geometry>
      <material name="metallic black">
        <color rgba="0.235294118 0.235294118 0.235294118 1" />
      </material>
    </visual>
    <collision>
      <origin xyz="0 0 0" rpy="0 0 0" />
      <geometry>
        <mesh filename="../convex/head_link02_hull.stl"/>
      </geometry>
    </collision>
  </link>
  <joint name="idx28_head_joint2" type="fixed">
    <origin xyz="-0.00501 0 0.16059" rpy="1.5708 0 0" />
    <parent link="head_link01" />
    <child link="head_link02" />
    <axis xyz="0 0 1" />
    <limit lower="-0.5" upper="0.5" effort="0" velocity="0" />
  </joint>

  <link name="logo">
    <visual>
      <origin xyz="0 0 0" rpy="0 0 0" />
      <geometry>
        <mesh filename="../mesh/logo.stl" />
      </geometry>
      <material name="metallic black">
        <color rgba="0.235294118 0.235294118 0.235294118 1" />
      </material>
    </visual>
  </link>
  <joint name="logo_fixed" type="fixed">
    <origin xyz="0 0 0" rpy="0 0 0" />
    <parent link="base_link" />
    <child link="logo" />
  </joint>

</robot>
